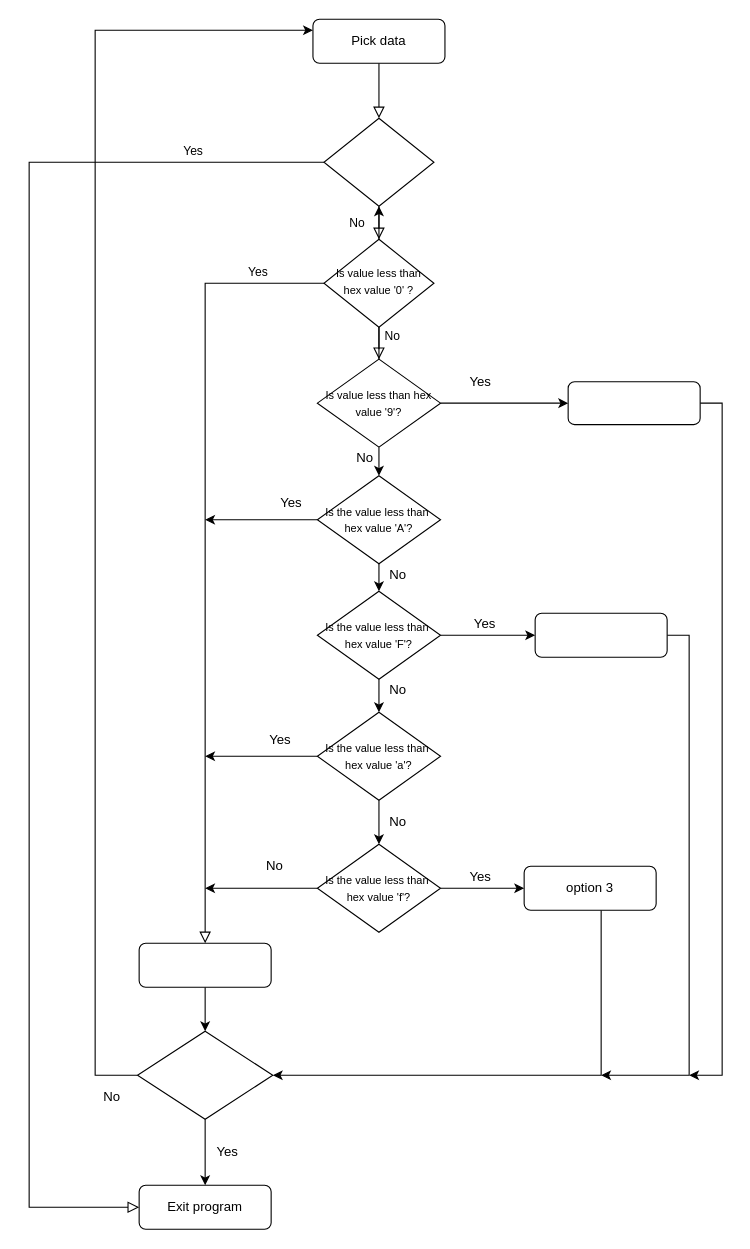
The diagram is 750 pixels wide and 1249 high, and some of its shapes have lost their labels. Here are the shapes that lost their labels. From the top down, the centre of each, then its label:
At point 378,161: "Is enter key pressed?".
At point 633,403: "option 1".
At point 600,634: "option 2".
At point 204,964: "Error".
At point 204,1074: "N = N-1 = 0?".
